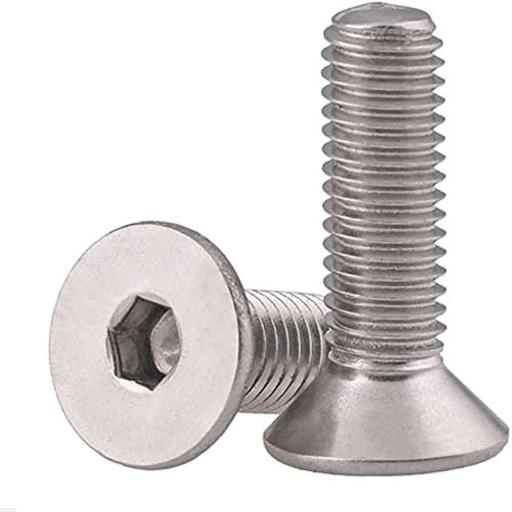Hex-Allen: (45, 216, 254, 472)
